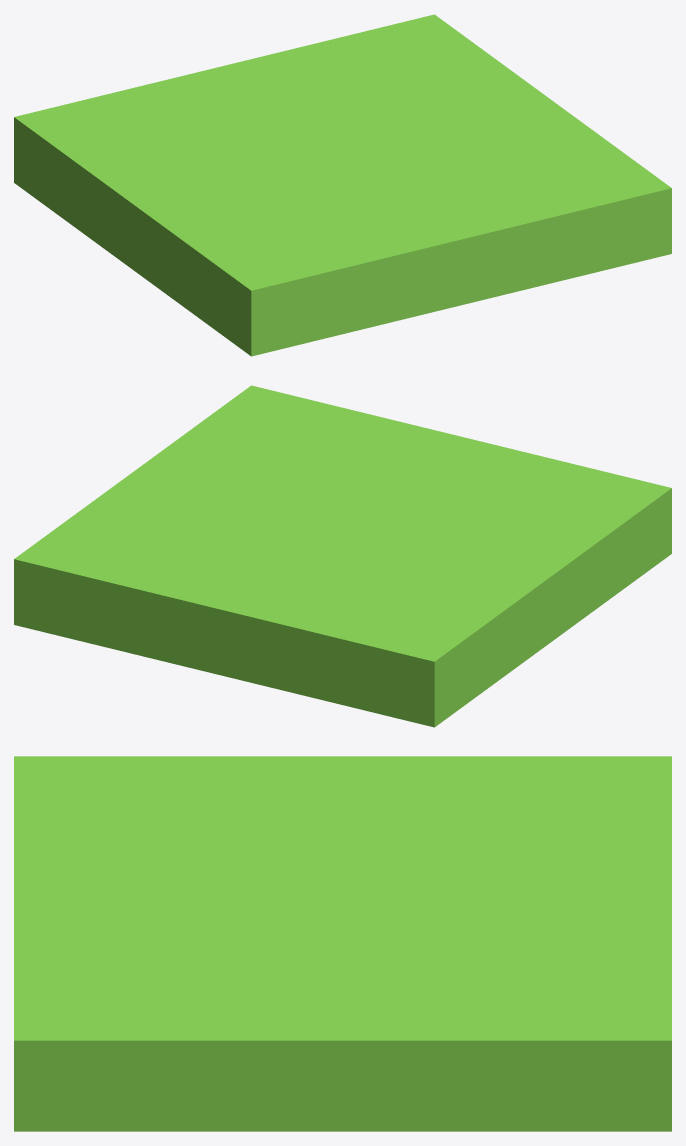
The model's file is pallet_broken.DAE.
3 renders of one model, top to bottom at view 1: azimuth 30°, elevation 25°; view 2: azimuth 150°, elevation 25°; view 3: azimuth 270°, elevation 25°, orthographic. The views are drawn at different scales.
Parts seen in each view (by area): view 1: bounds; view 2: bounds; view 3: bounds.
Part boxes in pixels (<box>): bounds: <box>14,14,671,356</box>; bounds: <box>14,385,671,727</box>; bounds: <box>14,756,671,1131</box>.
Bounding box in the file's own units: 2.47 × 2.41 × 0.3689.
